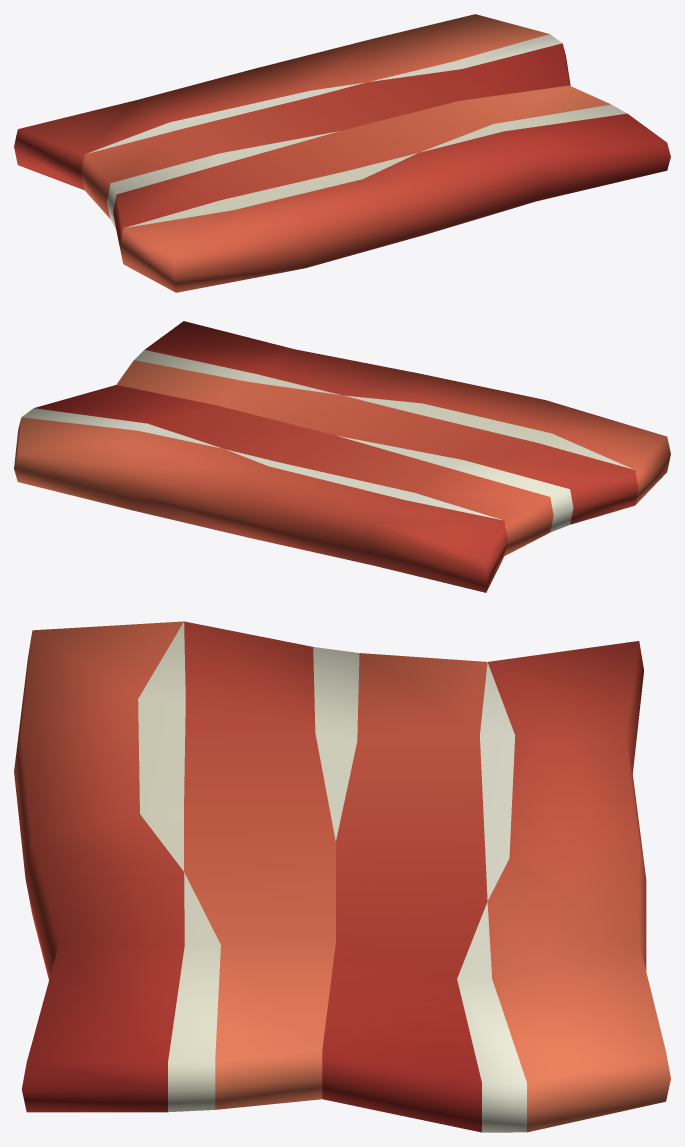
The model's file is Bacon_01.glb.
The picture shows the model from 3 angles, top to bottom: view 1: azimuth 30°, elevation 25°; view 2: azimuth 150°, elevation 25°; view 3: azimuth 270°, elevation 25°; orthographic projection. The views are drawn at different scales.
Parts seen in each view (by area): view 1: Bacon_01; view 2: Bacon_01; view 3: Bacon_01.
Boxes of the visible parts, x1,y1,x2,y2 form: Bacon_01: [14, 14, 670, 292]; Bacon_01: [14, 321, 670, 592]; Bacon_01: [14, 621, 670, 1132].
Size of the model in its own units: 0.565 by 0.0443 by 0.3409.
Materials: 1 (1 with a texture image).
